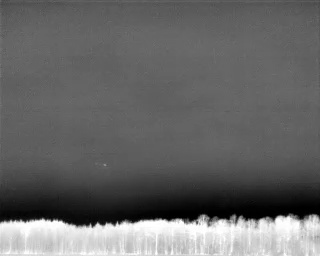AIRPLANE: (101, 161, 109, 169)
